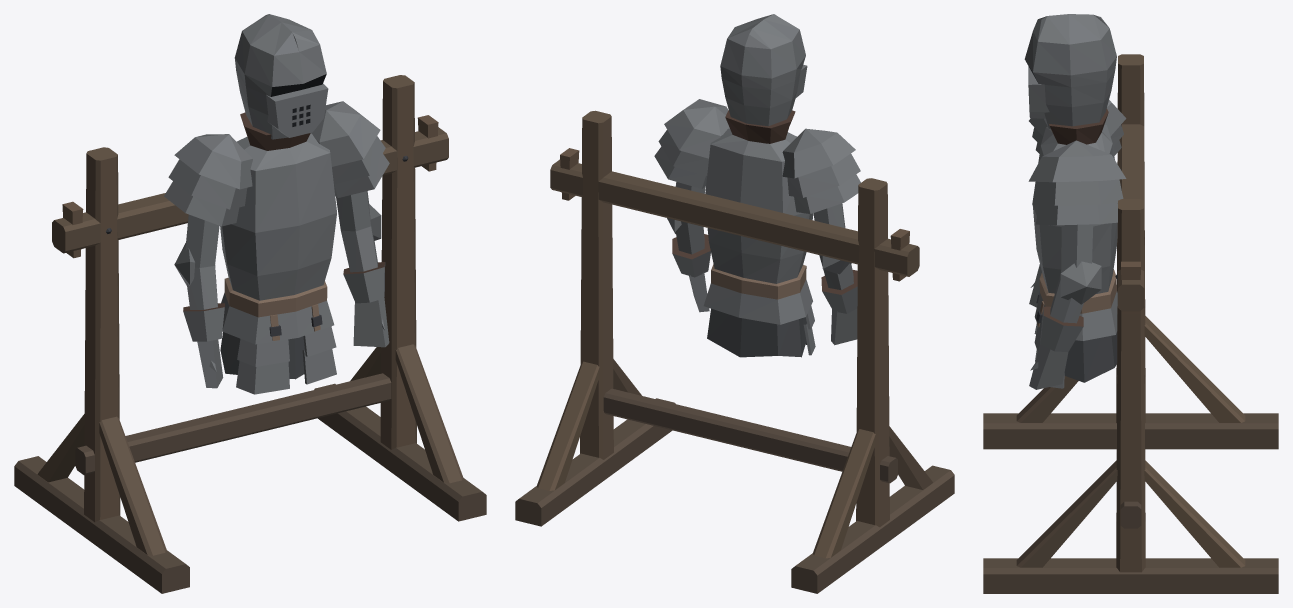
Rendered from armour-stand-3d77c4.glb.
3 renders of one model, left to right at view 1: azimuth 30°, elevation 25°; view 2: azimuth 150°, elevation 25°; view 3: azimuth 270°, elevation 25°, orthographic. The views are drawn at different scales.
Visible parts, largest first — view 1: stand-and-harness, helm-shell; view 2: stand-and-harness, helm-shell; view 3: stand-and-harness, helm-shell.
Boxes of the visible parts, x1,y1,x2,y2 form: stand-and-harness: [14, 75, 486, 593]; helm-shell: [234, 14, 328, 139]; stand-and-harness: [515, 99, 954, 593]; helm-shell: [720, 14, 807, 126]; stand-and-harness: [983, 54, 1278, 593]; helm-shell: [1024, 14, 1116, 128].
Size of the model in its own units: 1.5 by 1.87 by 1.
